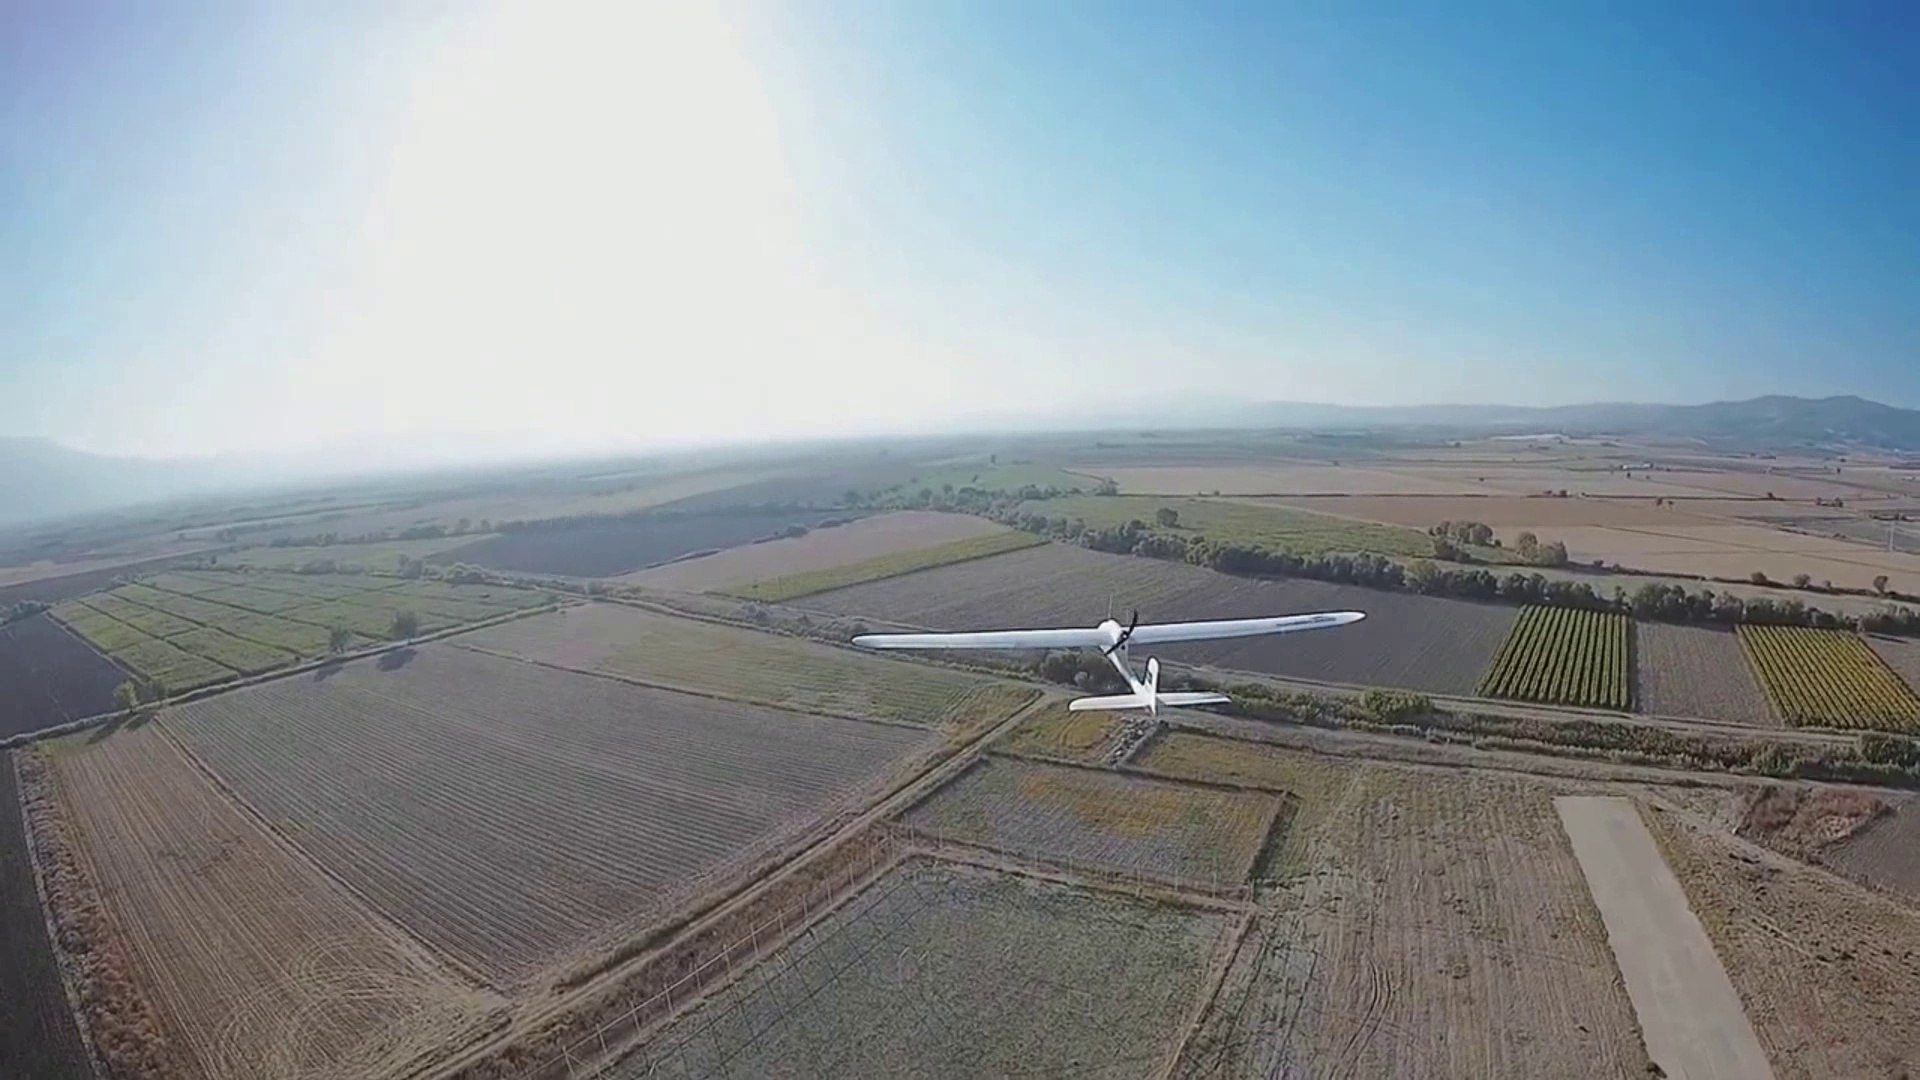airplane: (843, 602, 1366, 714)
